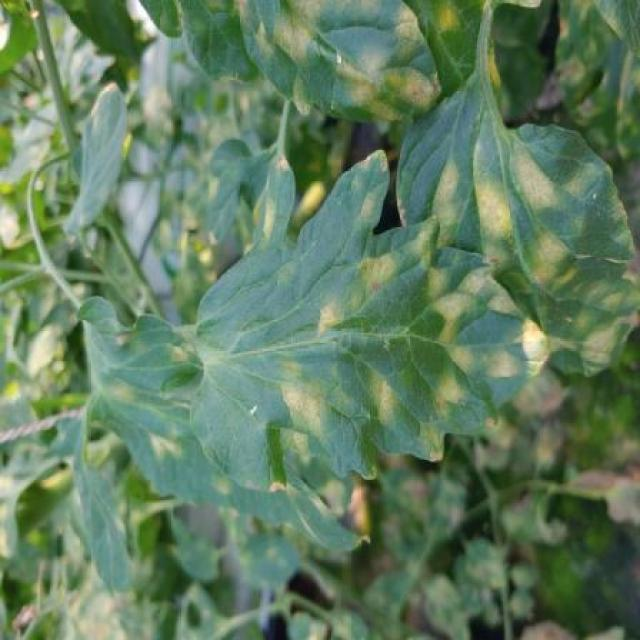Leaf Mold: (188, 151, 552, 483), (397, 74, 640, 380), (238, 0, 442, 126)
